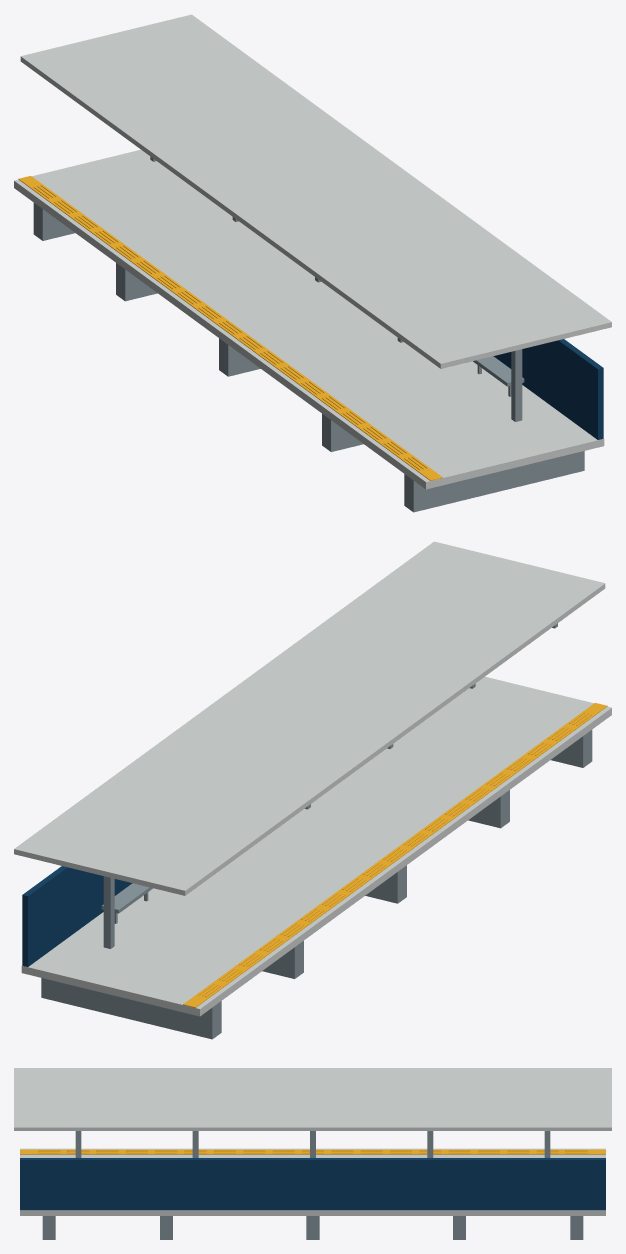
File: edited.glb
3 views of the same model, one above another, from view 1: azimuth 30°, elevation 25°; view 2: azimuth 150°, elevation 25°; view 3: azimuth 270°, elevation 25° (orthographic). The views are drawn at different scales.
Parts seen in each view (by area): view 1: CANOPY_Roof, PLATFORM_Slab, REAR_ServiceWall, EDGE_Tactile, UNDERSTRUCTURE, UNDERSTRUCTURE.004, CANOPY_Post.001, UNDERSTRUCTURE.001, UNDERSTRUCTURE.002, UNDERSTRUCTURE.003; view 2: CANOPY_Roof, PLATFORM_Slab, REAR_ServiceWall, EDGE_Tactile, UNDERSTRUCTURE.004, UNDERSTRUCTURE, CANOPY_Post, UNDERSTRUCTURE.003, UNDERSTRUCTURE.001, UNDERSTRUCTURE.002; view 3: CANOPY_Roof, REAR_ServiceWall, PLATFORM_Slab, EDGE_Tactile, UNDERSTRUCTURE, UNDERSTRUCTURE.002, UNDERSTRUCTURE.004, UNDERSTRUCTURE.001, UNDERSTRUCTURE.003.
Part boxes in pixels (left/top/right/bottom): CANOPY_Roof: left=20, top=14, right=611, bottom=368; PLATFORM_Slab: left=14, top=149, right=604, bottom=489; REAR_ServiceWall: left=493, top=339, right=603, bottom=439; EDGE_Tactile: left=18, top=176, right=442, bottom=480; UNDERSTRUCTURE: left=404, top=451, right=584, bottom=512; UNDERSTRUCTURE.004: left=33, top=203, right=74, bottom=240; CANOPY_Post.001: left=511, top=349, right=522, bottom=421; UNDERSTRUCTURE.001: left=322, top=414, right=363, bottom=451; UNDERSTRUCTURE.002: left=219, top=338, right=260, bottom=376; UNDERSTRUCTURE.003: left=116, top=263, right=157, bottom=301; CANOPY_Roof: left=14, top=541, right=605, bottom=895; PLATFORM_Slab: left=21, top=676, right=611, bottom=1016; REAR_ServiceWall: left=22, top=866, right=132, bottom=966; EDGE_Tactile: left=183, top=703, right=607, bottom=1007; UNDERSTRUCTURE.004: left=41, top=978, right=221, bottom=1039; UNDERSTRUCTURE: left=551, top=730, right=592, bottom=767; CANOPY_Post: left=103, top=876, right=114, bottom=948; UNDERSTRUCTURE.003: left=262, top=941, right=303, bottom=978; UNDERSTRUCTURE.001: left=468, top=790, right=509, bottom=828; UNDERSTRUCTURE.002: left=365, top=865, right=406, bottom=903; CANOPY_Roof: left=14, top=1068, right=611, bottom=1130; REAR_ServiceWall: left=20, top=1158, right=605, bottom=1210; PLATFORM_Slab: left=20, top=1148, right=605, bottom=1215; EDGE_Tactile: left=20, top=1149, right=605, bottom=1154; UNDERSTRUCTURE: left=42, top=1216, right=55, bottom=1239; UNDERSTRUCTURE.002: left=306, top=1216, right=319, bottom=1239; UNDERSTRUCTURE.004: left=570, top=1216, right=583, bottom=1239; UNDERSTRUCTURE.001: left=160, top=1216, right=172, bottom=1239; UNDERSTRUCTURE.003: left=453, top=1216, right=465, bottom=1239.
Bounding box in the file's own units: 5.1 × 4.33 × 20.4.
